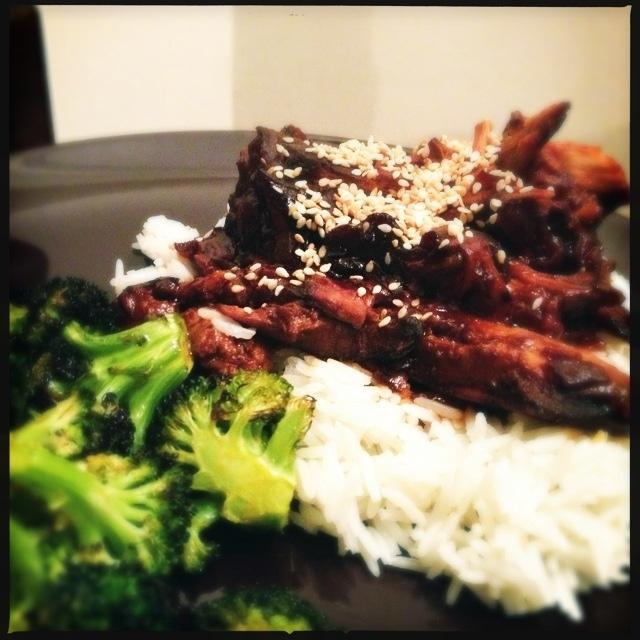broccoli: (18, 273, 194, 461), (145, 370, 315, 535), (10, 439, 198, 579), (164, 580, 346, 636), (11, 515, 78, 627), (9, 304, 32, 337)
